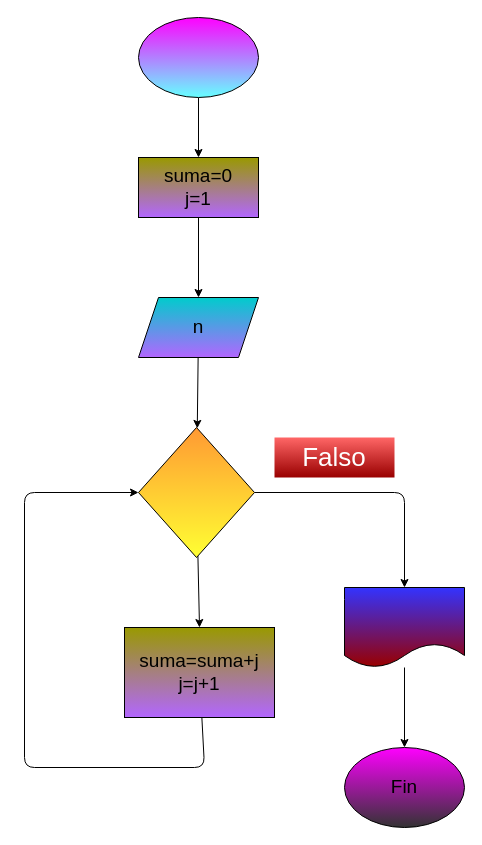
Some shapes in this 482 by 845 pixel diagram are drawn without their labels. The centre of each missing label's shape, as x and y in pixels:
"Inicio" belongs at [198,57].
"j<=n" belongs at [196,492].
"suma" belongs at [404,627].
